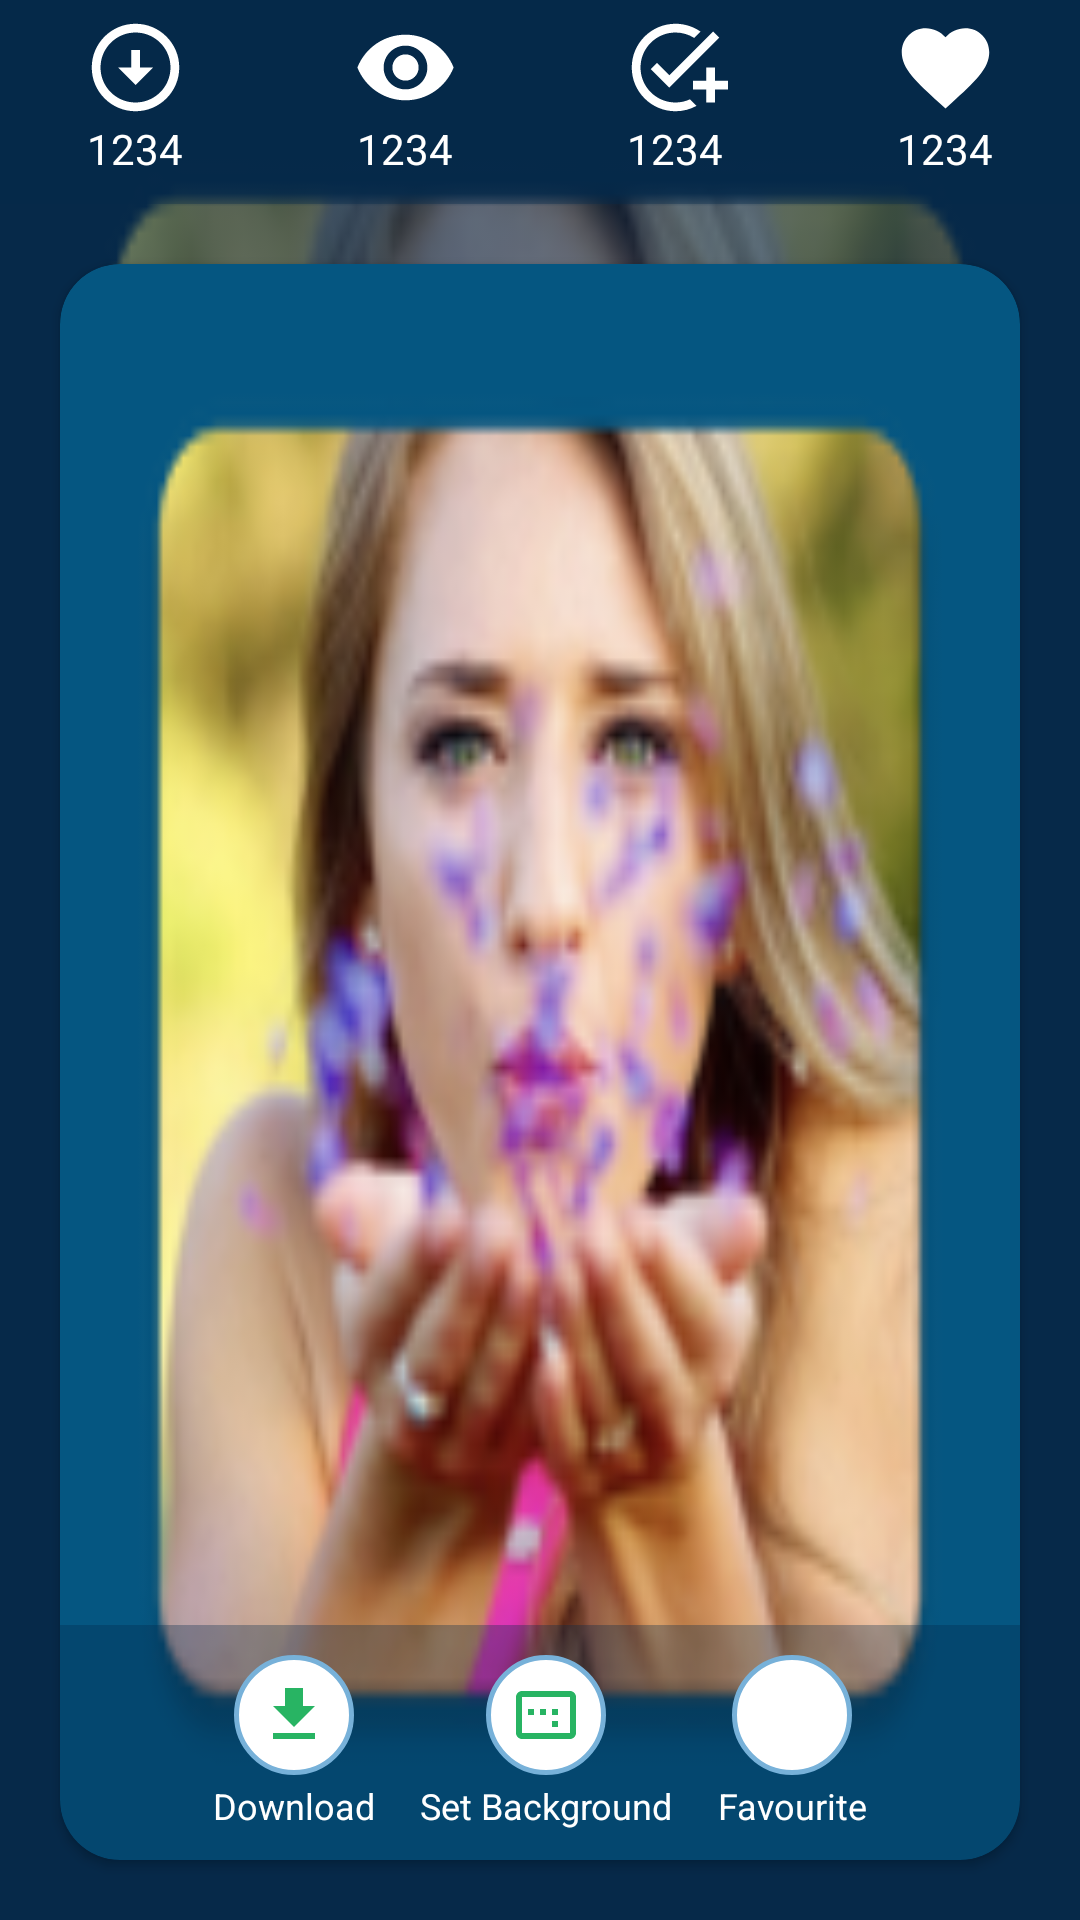

Locate icon controls on the screen. Image size 1080x1920, boxes as (x1, y1, x2, y2).
favourite: (901, 28, 990, 109)
views: (357, 34, 454, 101)
